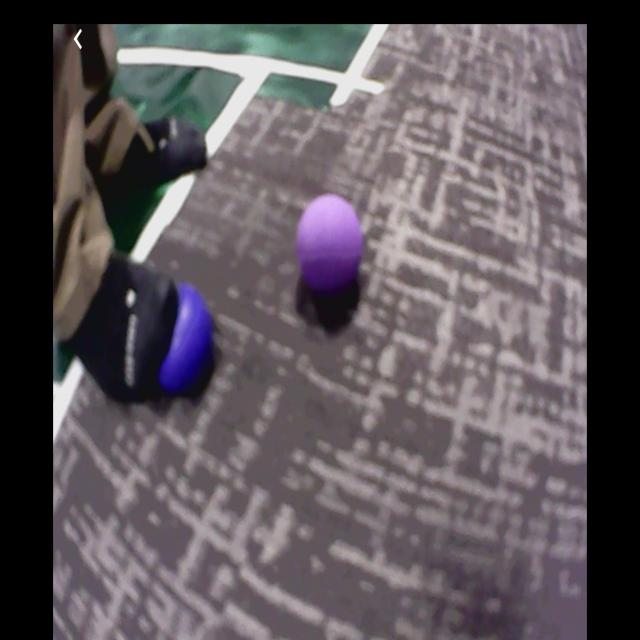ball: (297, 198, 367, 298), (158, 286, 220, 395)
